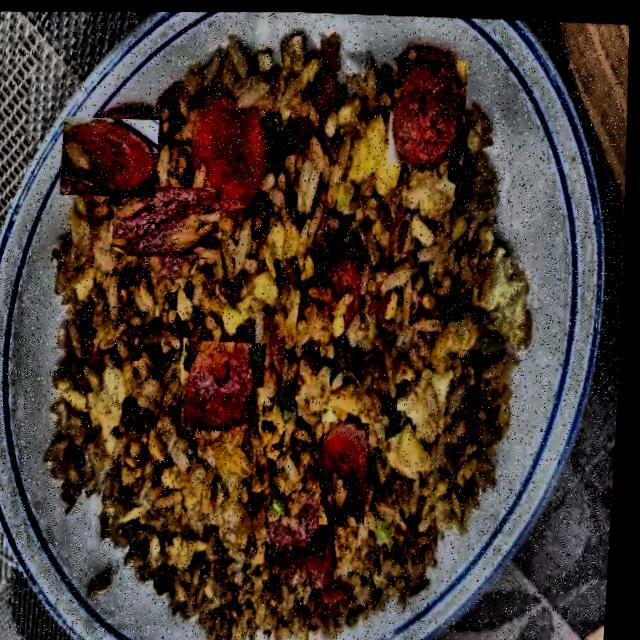Food: (189, 86, 274, 220), (383, 50, 472, 165), (118, 171, 218, 269), (62, 108, 159, 204), (181, 335, 273, 433), (320, 416, 379, 526)
